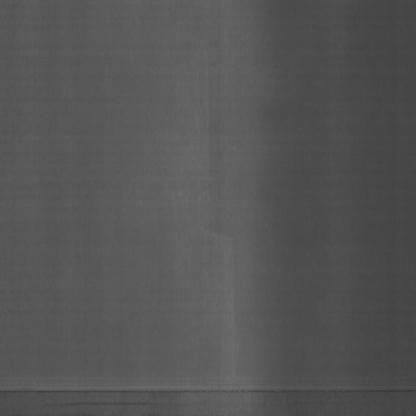welding_line: (1, 373, 416, 403)
